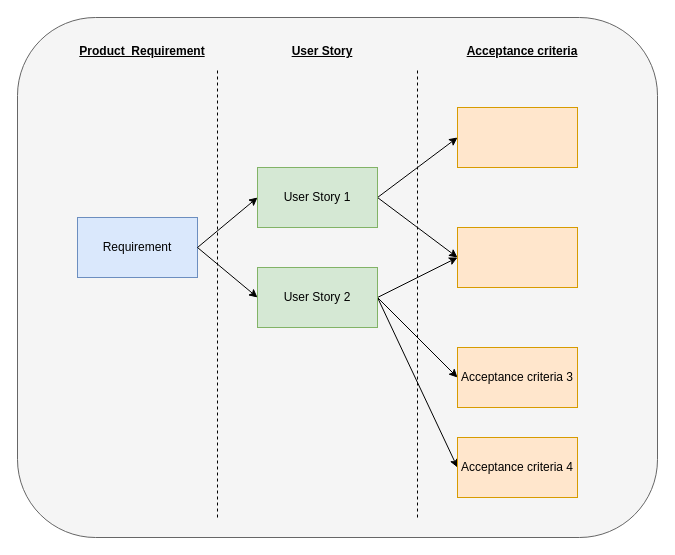
This 675x555 diagram has some shape labels left out. Here are the shapes that lost their labels. From the top down, the box of each, then its label:
(456, 106, 578, 168): Acceptance criteria 1
(456, 226, 578, 288): Acceptance criteria 2
